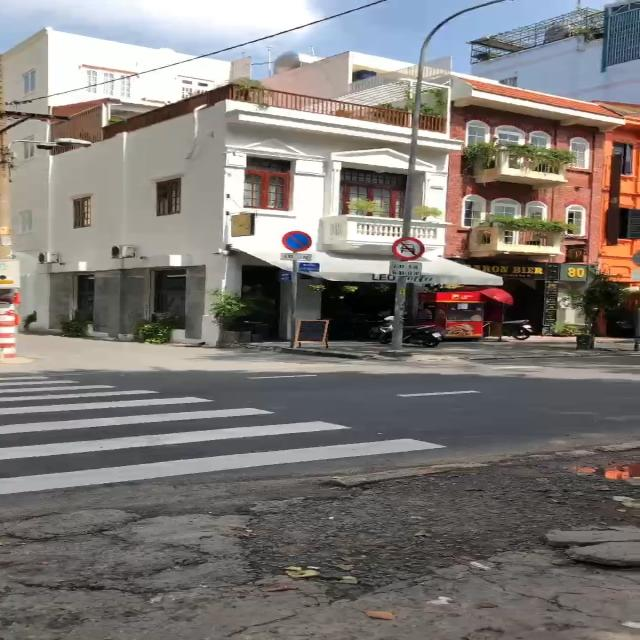Bien bao cam do xe: (280, 228, 318, 253)
Bien bao cam xe oto: (389, 234, 427, 262)
